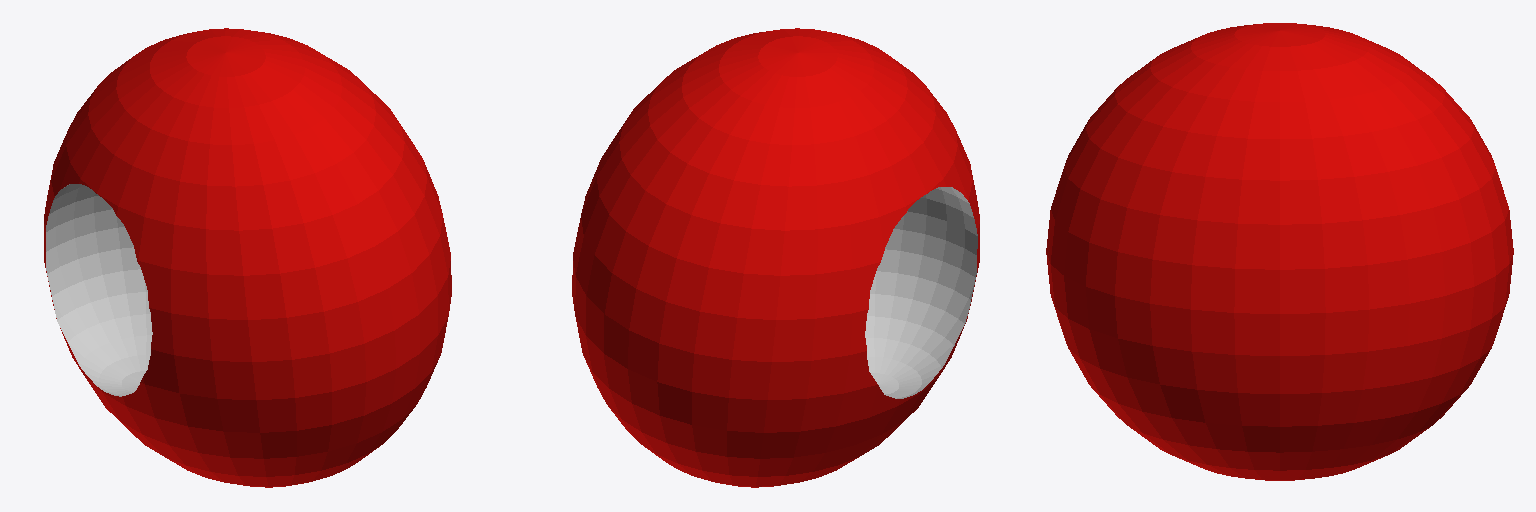
3 views of the same model, side by side, from view 1: azimuth 30°, elevation 25°; view 2: azimuth 150°, elevation 25°; view 3: azimuth 270°, elevation 25° (orthographic).
Visible parts, largest first — view 1: Sphere.002; view 2: Sphere.002; view 3: Sphere.002.
Part boxes in pixels (left/top/right/bottom): Sphere.002: left=44, top=28, right=451, bottom=487; Sphere.002: left=572, top=28, right=979, bottom=487; Sphere.002: left=1046, top=23, right=1513, bottom=480.
Bounding box in the file's own units: 2.21 × 2.78 × 2.8.
Materials: 2 (1 with a texture image).